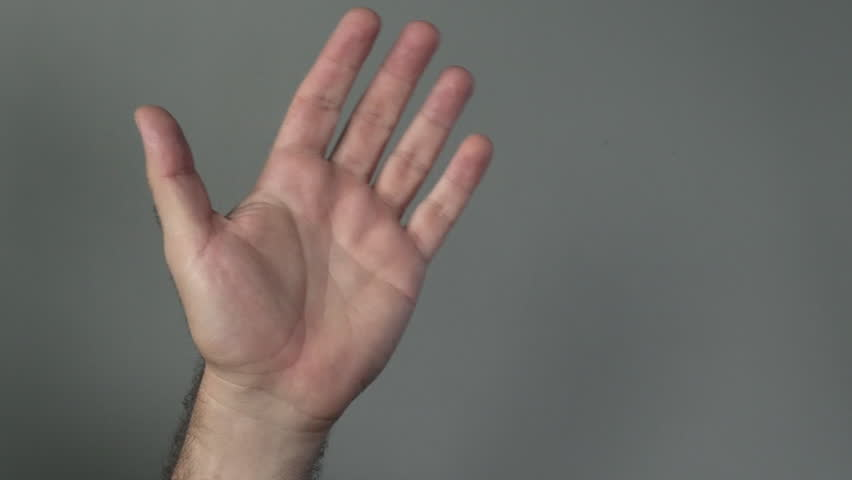open_hand: (97, 2, 535, 438)
